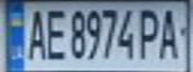4: (115, 4, 139, 60)
7: (100, 6, 118, 60)
8: (66, 6, 87, 61)
9: (84, 6, 103, 60)
A: (21, 4, 48, 61), (157, 4, 184, 60)
E: (42, 4, 69, 61)
P: (136, 4, 163, 61)
